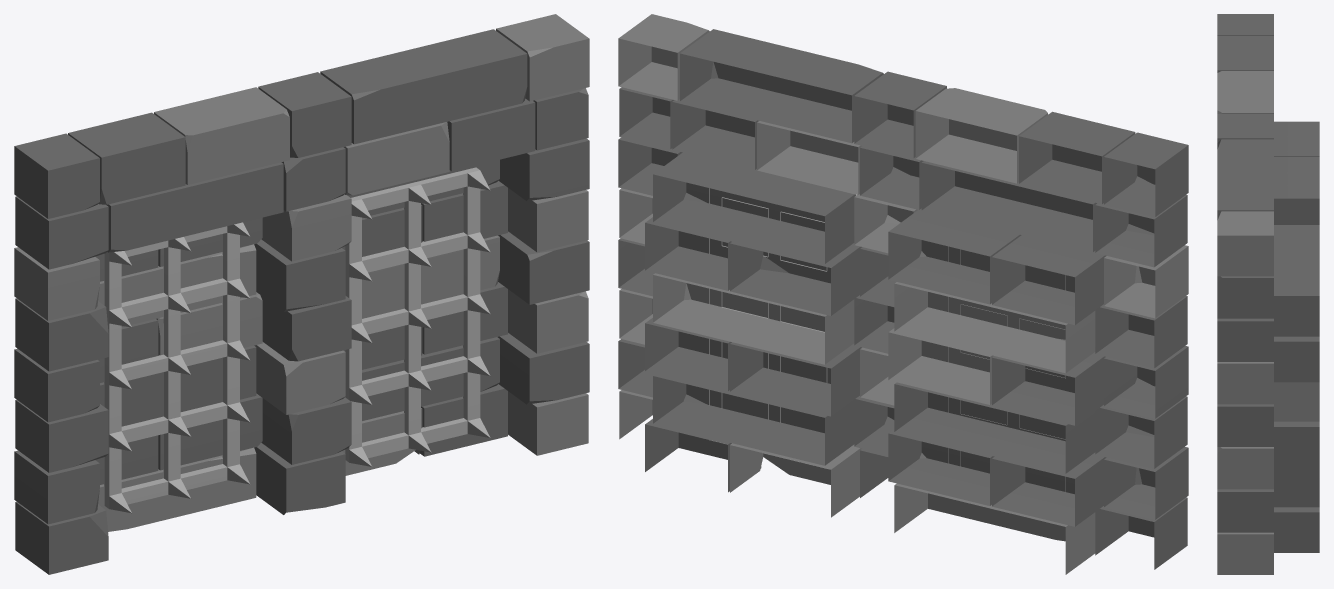
The model's file is Wall_Trap_1.fbx.
The picture shows the model from 3 angles, left to right: view 1: azimuth 30°, elevation 25°; view 2: azimuth 150°, elevation 25°; view 3: azimuth 270°, elevation 25°; orthographic projection. The views are drawn at different scales.
Visible parts, largest first — view 1: Wall_Trap_1, Wall_Trap_Moving_Wall_1, Wall_Trap_Moving_Wall_2; view 2: Wall_Trap_1, Wall_Trap_Moving_Wall_1, Wall_Trap_Moving_Wall_2; view 3: Wall_Trap_1, Wall_Trap_Moving_Wall_2, Wall_Trap_Moving_Wall_1.
Part boxes in pixels (x1,y1,x2,y2): Wall_Trap_1: (14,14,589,574); Wall_Trap_Moving_Wall_1: (95,217,262,531); Wall_Trap_Moving_Wall_2: (342,159,507,475); Wall_Trap_1: (618,14,1188,569); Wall_Trap_Moving_Wall_1: (888,208,1106,574); Wall_Trap_Moving_Wall_2: (645,152,861,517); Wall_Trap_1: (1217,14,1273,574); Wall_Trap_Moving_Wall_2: (1274,225,1319,552); Wall_Trap_Moving_Wall_1: (1274,121,1319,224).
Size of the model in its own units: 305 by 218 by 59.5.
1 material, 1 textured.
